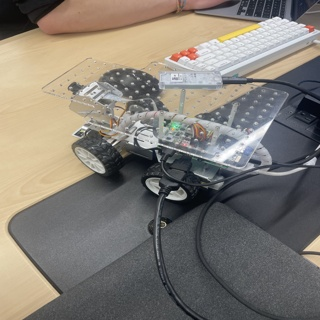vehicle: (44, 53, 290, 202)
